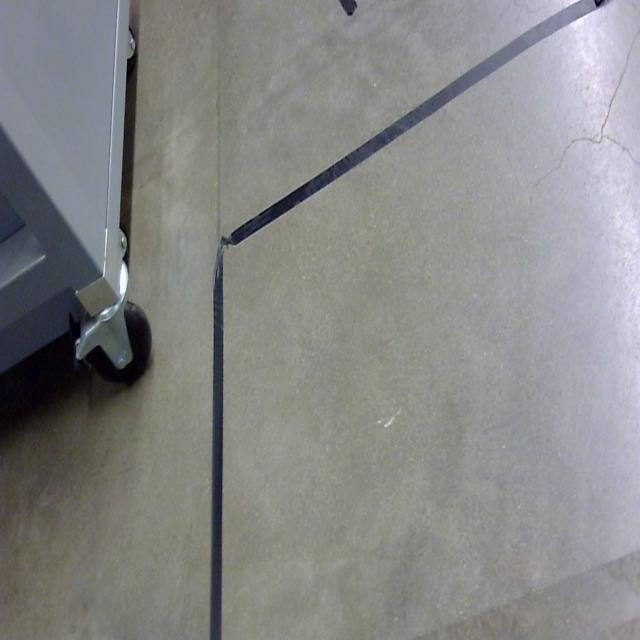tape: (225, 0, 614, 247), (208, 241, 230, 640)
